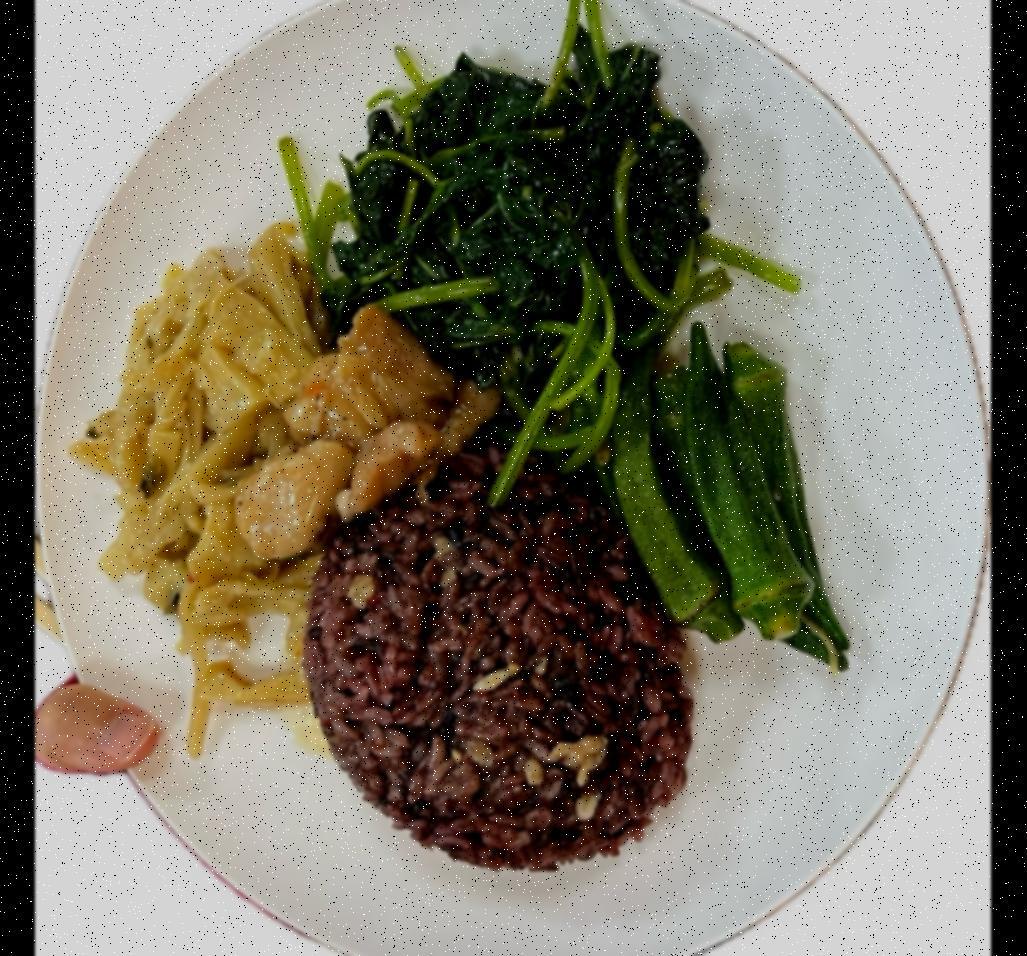big fried chicken leg: (37, 0, 991, 956)
braised fish: (294, 453, 696, 876)
braised fish fillet: (312, 1, 707, 456), (80, 233, 320, 747), (590, 341, 851, 673)
braised pork: (230, 300, 485, 555)
